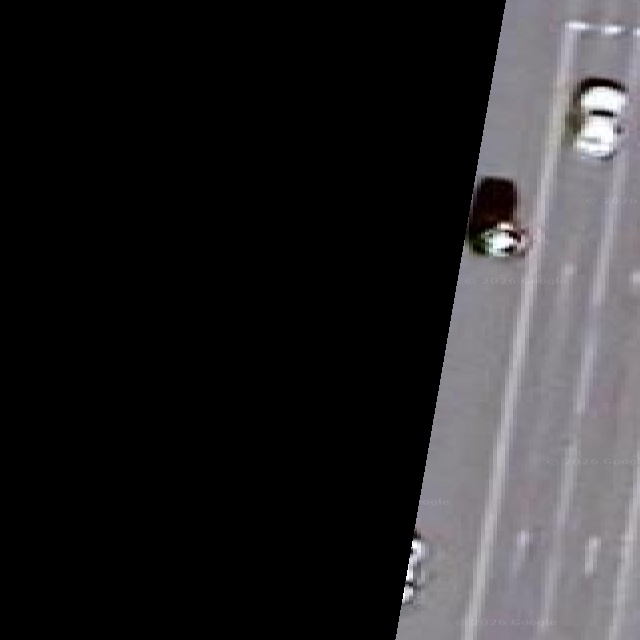car: (467, 176, 528, 256), (567, 76, 624, 159), (402, 529, 427, 604), (472, 223, 527, 256)
